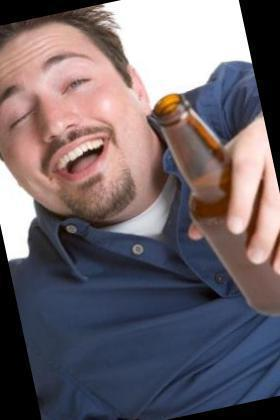Drunk: (4, 32, 144, 211)
